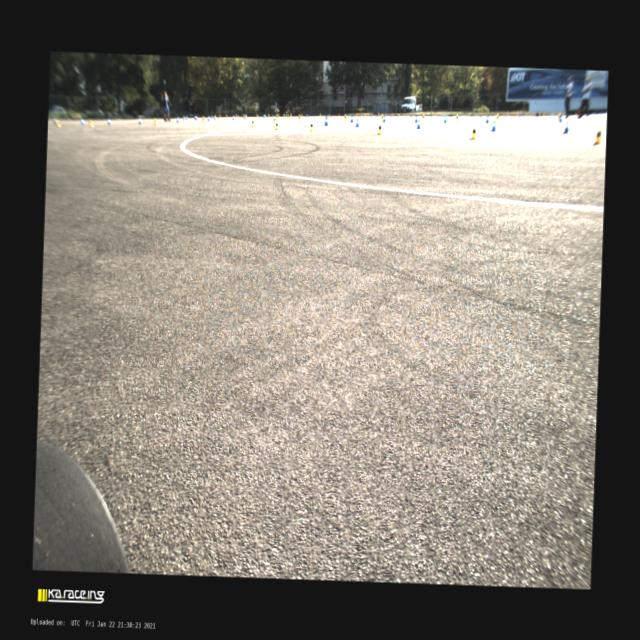blue_cone: (562, 122, 569, 134), (490, 120, 496, 131), (416, 119, 421, 129), (413, 114, 418, 122), (354, 118, 358, 126), (349, 114, 353, 122), (324, 117, 328, 125), (484, 114, 488, 122), (382, 114, 385, 122), (443, 114, 446, 122), (108, 118, 111, 125), (176, 116, 179, 122), (139, 118, 142, 124), (207, 115, 210, 121), (213, 114, 216, 120), (231, 114, 234, 120), (244, 114, 247, 120), (82, 119, 85, 124), (182, 116, 185, 120), (195, 115, 197, 120), (210, 114, 212, 119), (186, 116, 188, 120), (236, 114, 238, 118)
yellow_cone: (592, 126, 602, 144), (470, 125, 476, 138), (376, 123, 382, 134), (308, 122, 312, 131), (274, 122, 278, 130), (454, 112, 458, 120), (154, 118, 158, 126), (274, 113, 278, 120), (251, 119, 254, 127), (421, 113, 424, 121), (90, 120, 94, 126), (297, 114, 300, 122), (343, 113, 346, 121), (380, 113, 383, 121), (495, 114, 498, 122), (56, 120, 60, 126), (272, 117, 275, 124), (234, 113, 237, 119), (318, 112, 321, 118), (242, 113, 244, 121), (202, 116, 204, 123), (286, 113, 288, 120), (289, 112, 291, 119), (218, 114, 220, 120), (225, 114, 228, 118), (267, 114, 269, 120), (282, 113, 284, 119), (337, 112, 339, 117)
